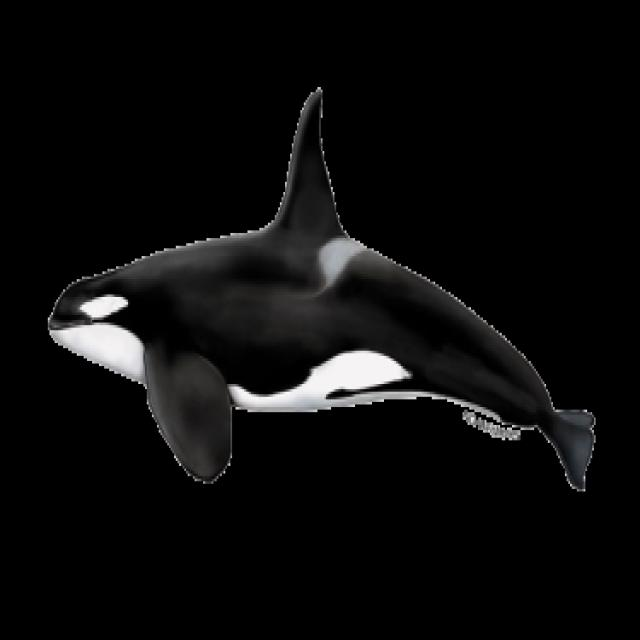ballena: (48, 90, 592, 489)
